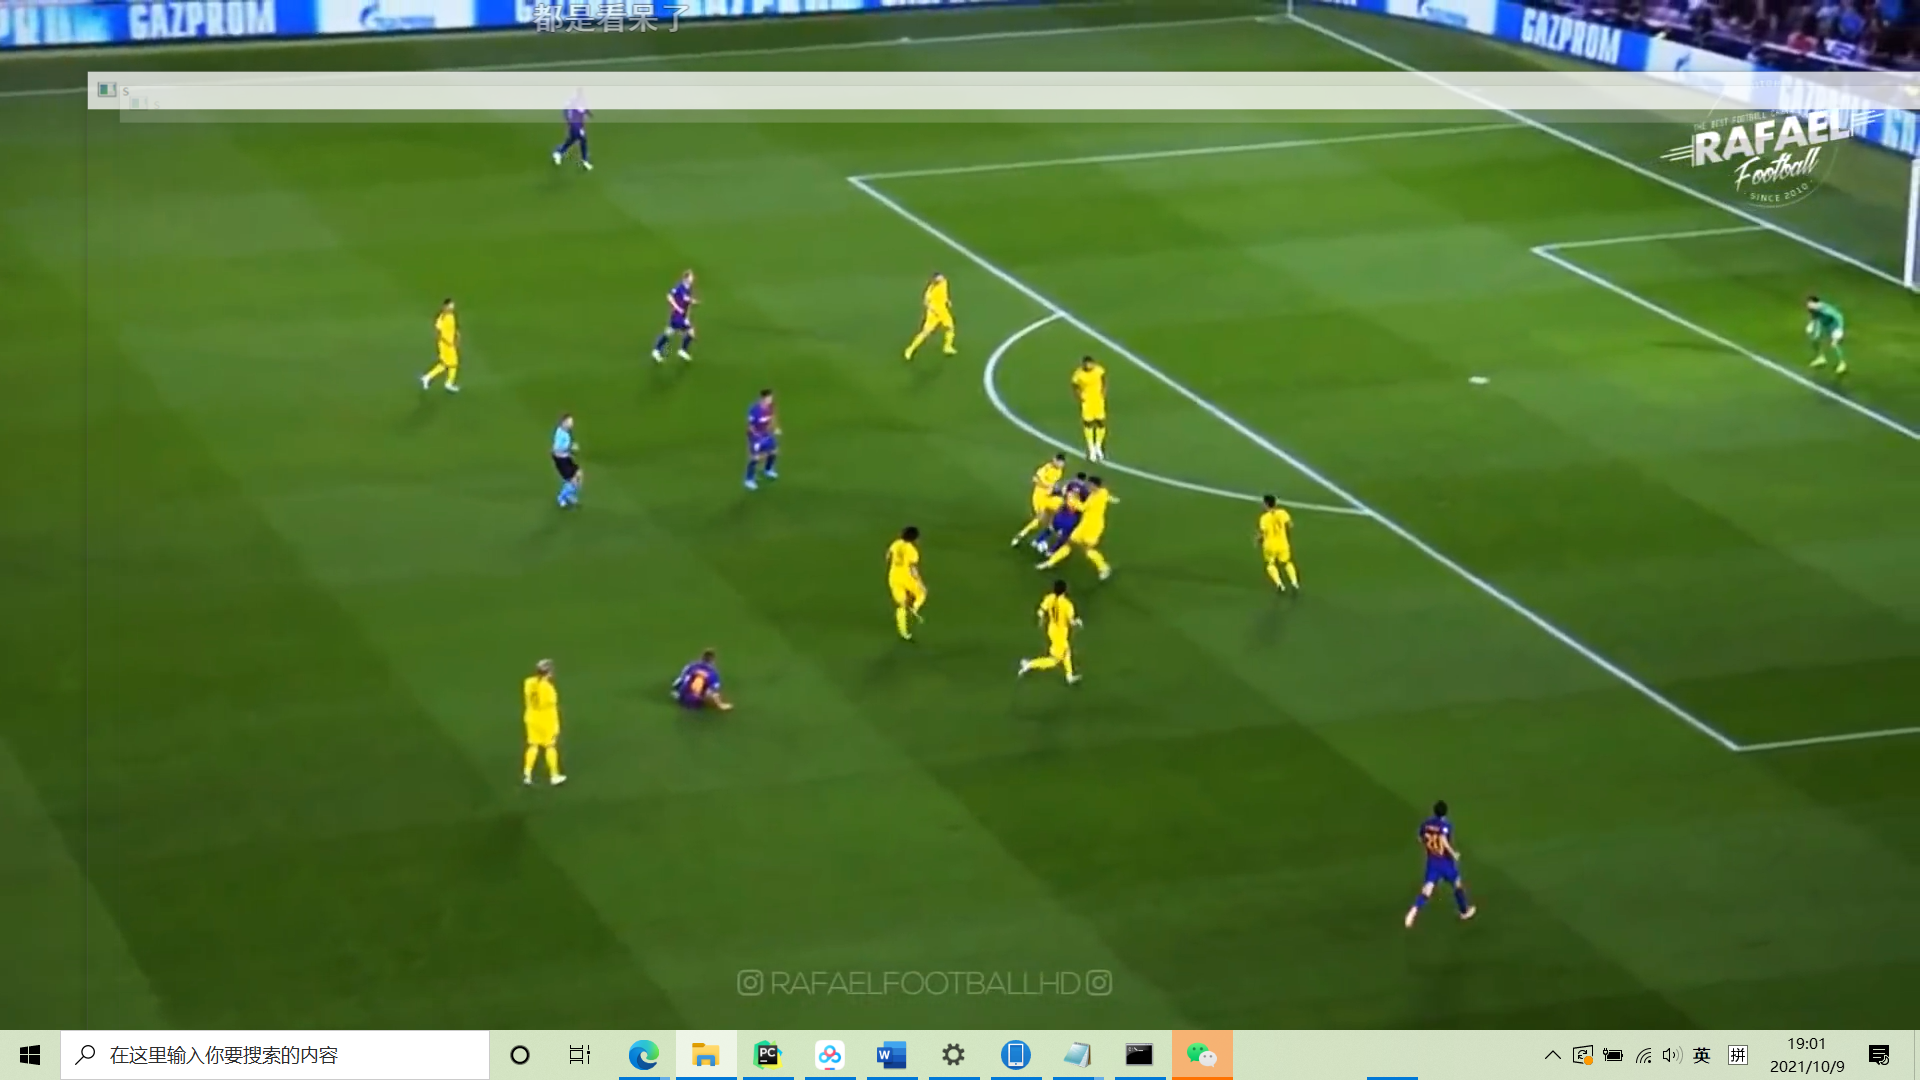ft: (1033, 539, 1050, 555)
